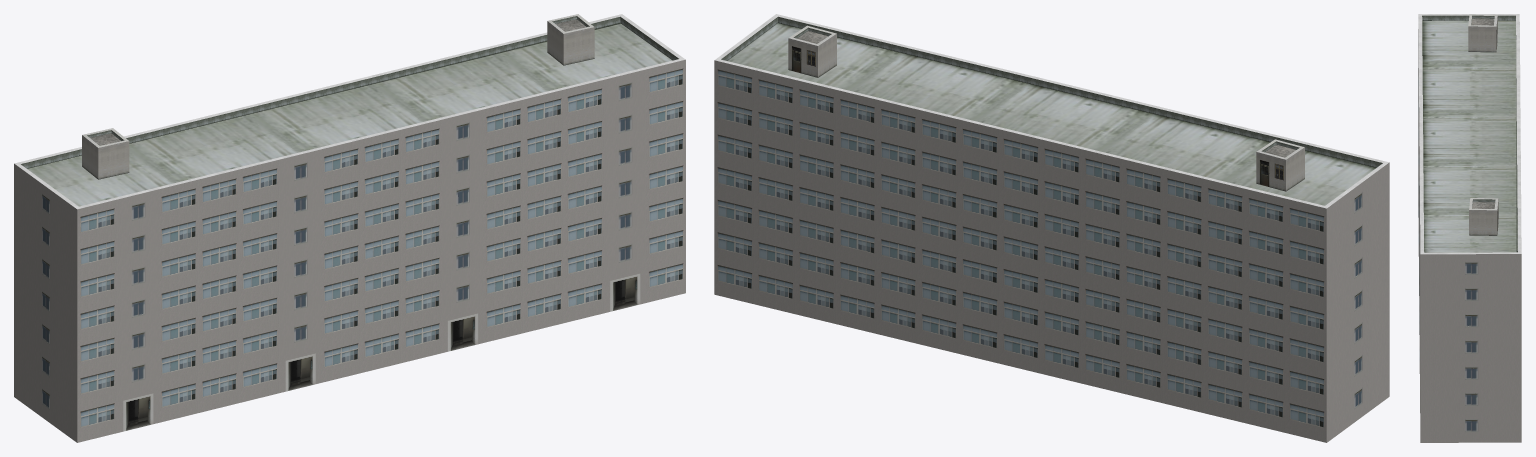
3 views of the same model, side by side, from view 1: azimuth 30°, elevation 25°; view 2: azimuth 150°, elevation 25°; view 3: azimuth 270°, elevation 25° (orthographic). The views are drawn at different scales.
Parts seen in each view (by area): view 1: jz21; view 2: jz21; view 3: jz21.
Part boxes in pixels (x1=…): jz21: x1=14, y1=14, x2=685, y2=442; jz21: x1=714, y1=14, x2=1389, y2=442; jz21: x1=1418, y1=14, x2=1521, y2=442.
Bounding box in the file's own units: 6036 × 2448 × 1096.
12 materials, 12 textured.
